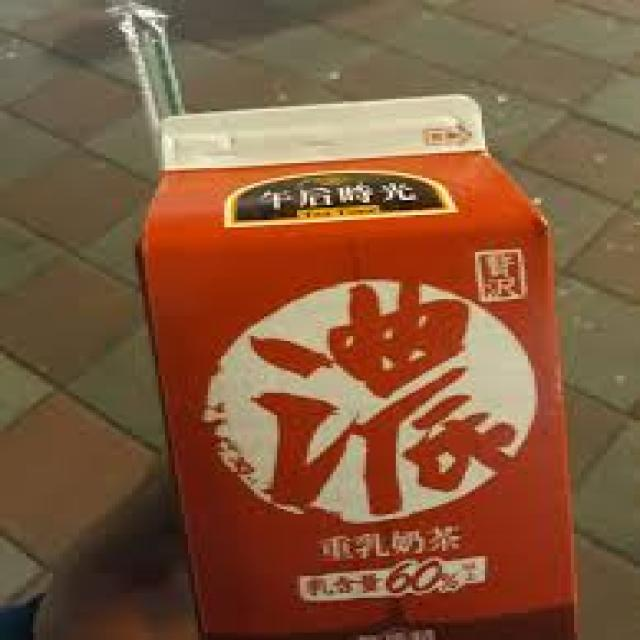Known_MilkTea: (122, 96, 591, 640)
